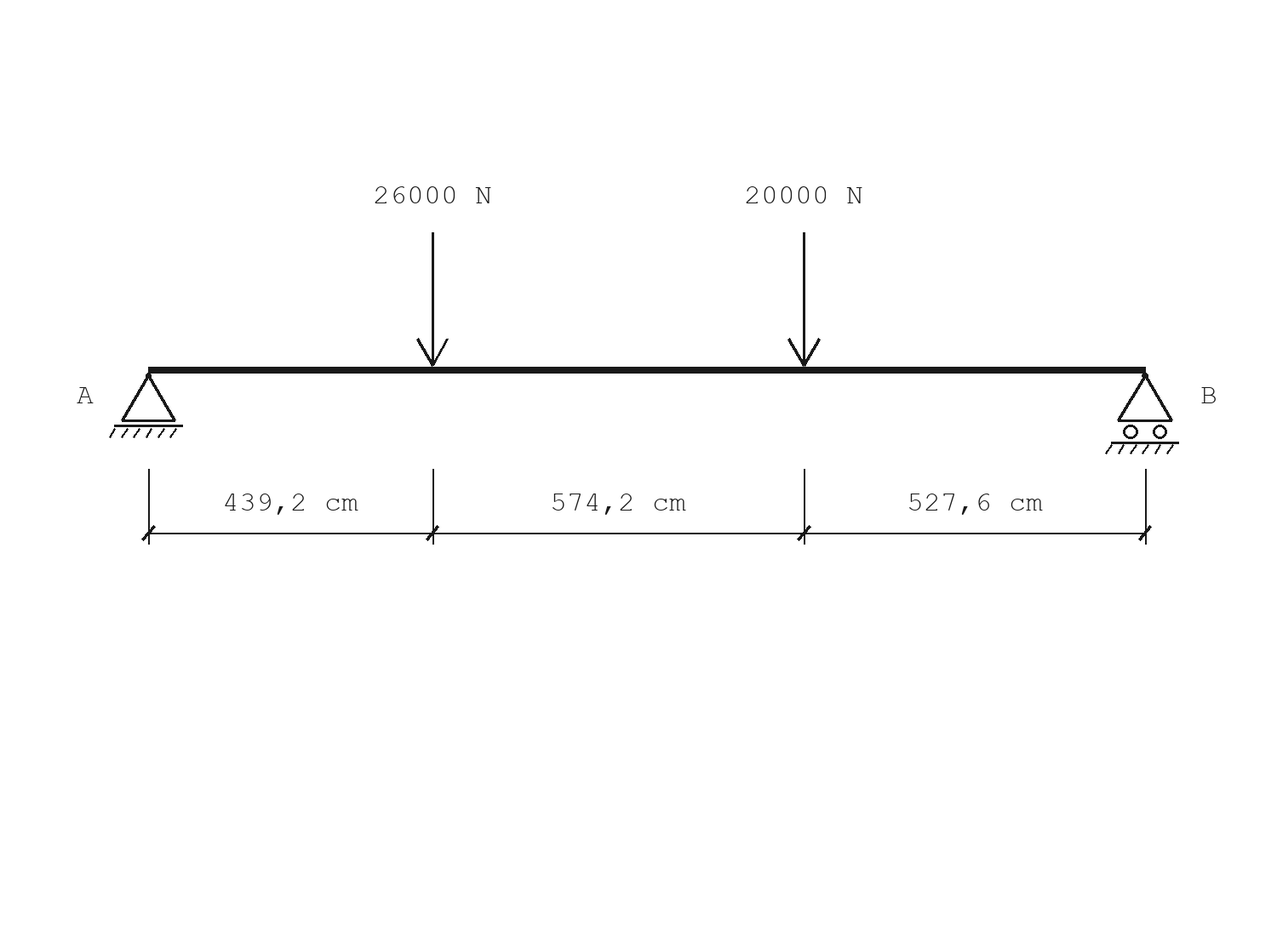pin_support: (109, 373, 183, 438)
point_load: (787, 232, 821, 367), (416, 232, 449, 367)
roller_support: (1105, 373, 1179, 454)
